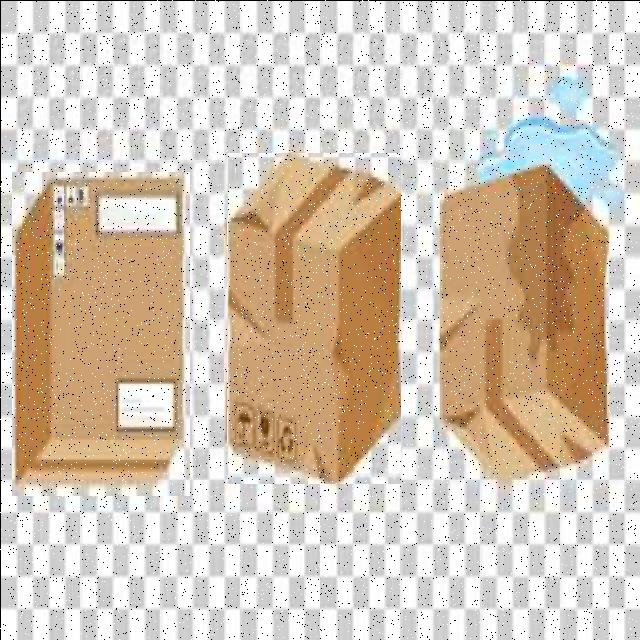defect: (430, 163, 616, 482), (226, 152, 400, 483)
normal: (11, 171, 189, 495)
